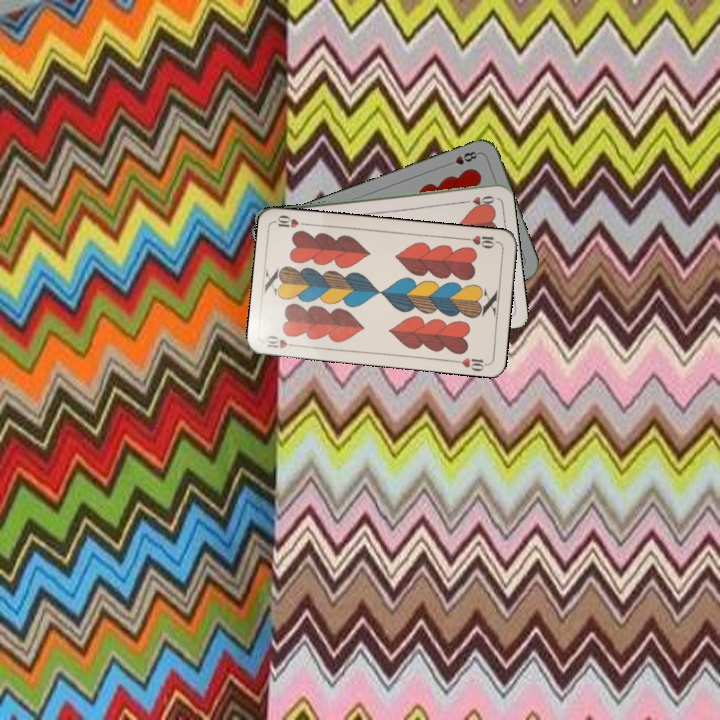H10: (461, 231, 501, 251), (262, 331, 302, 351)
H8: (443, 147, 482, 169)
HO: (457, 191, 497, 206)
